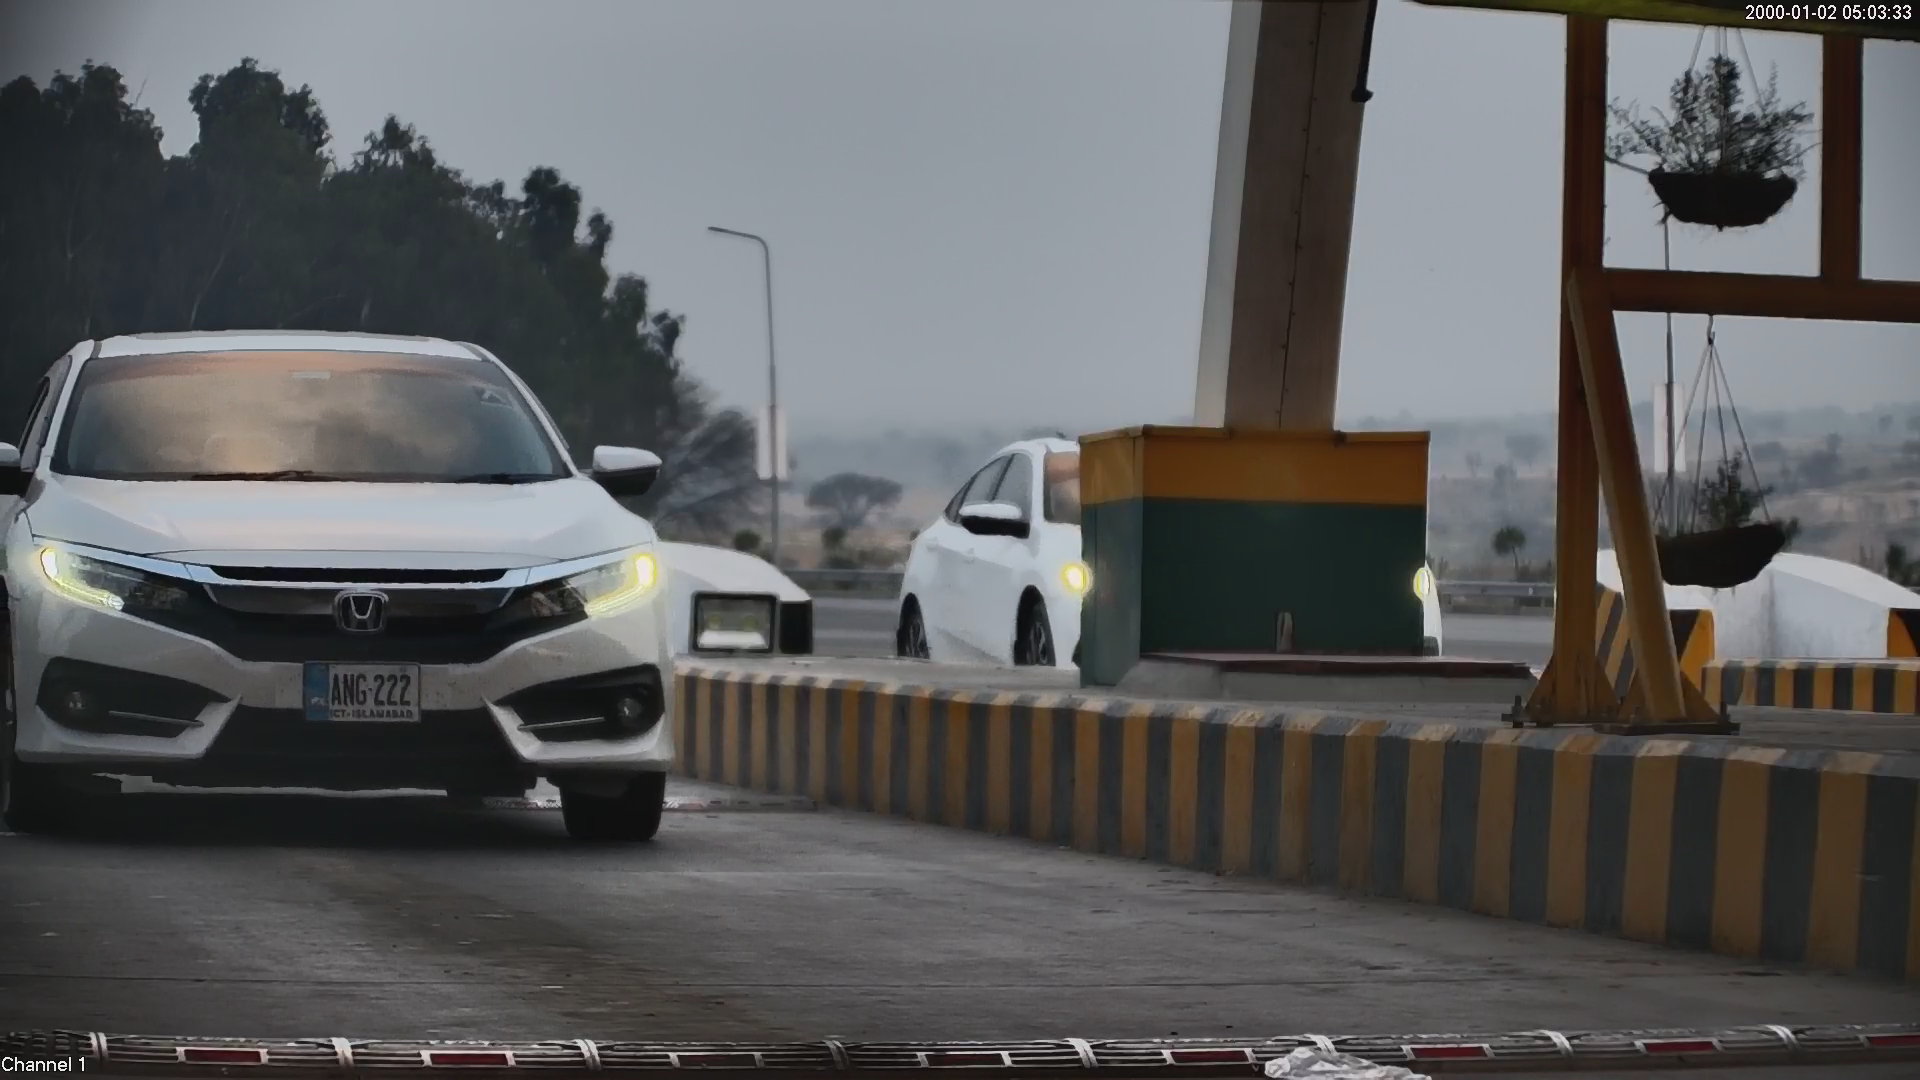Number_Plate: (298, 651, 431, 732)
